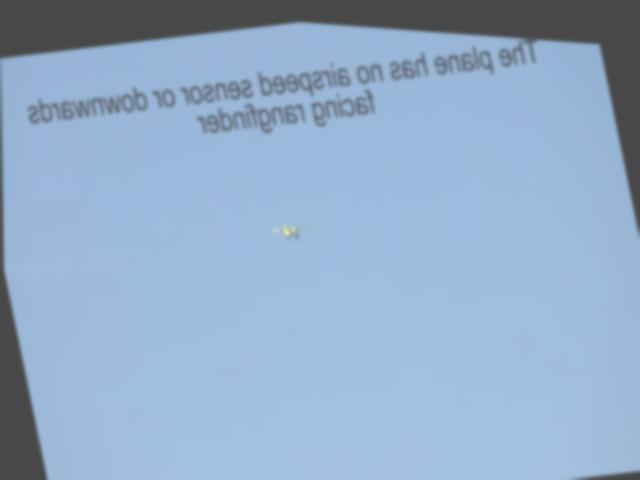plane: (269, 216, 311, 240)
